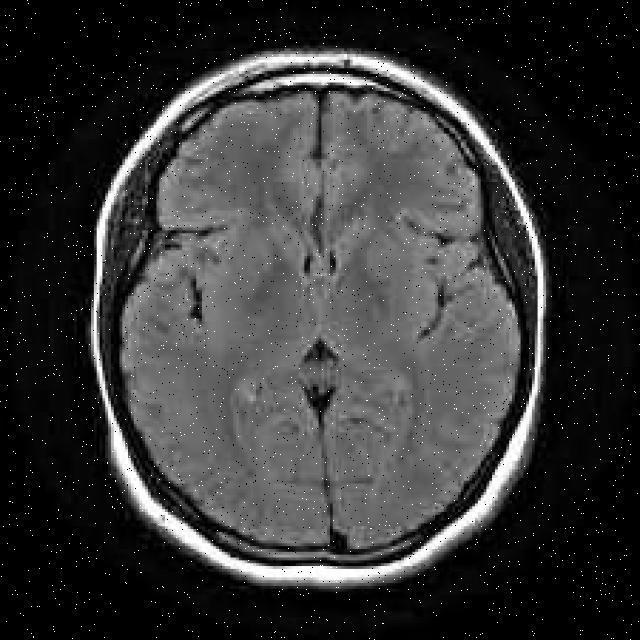No_Tumor: (91, 52, 544, 583)
